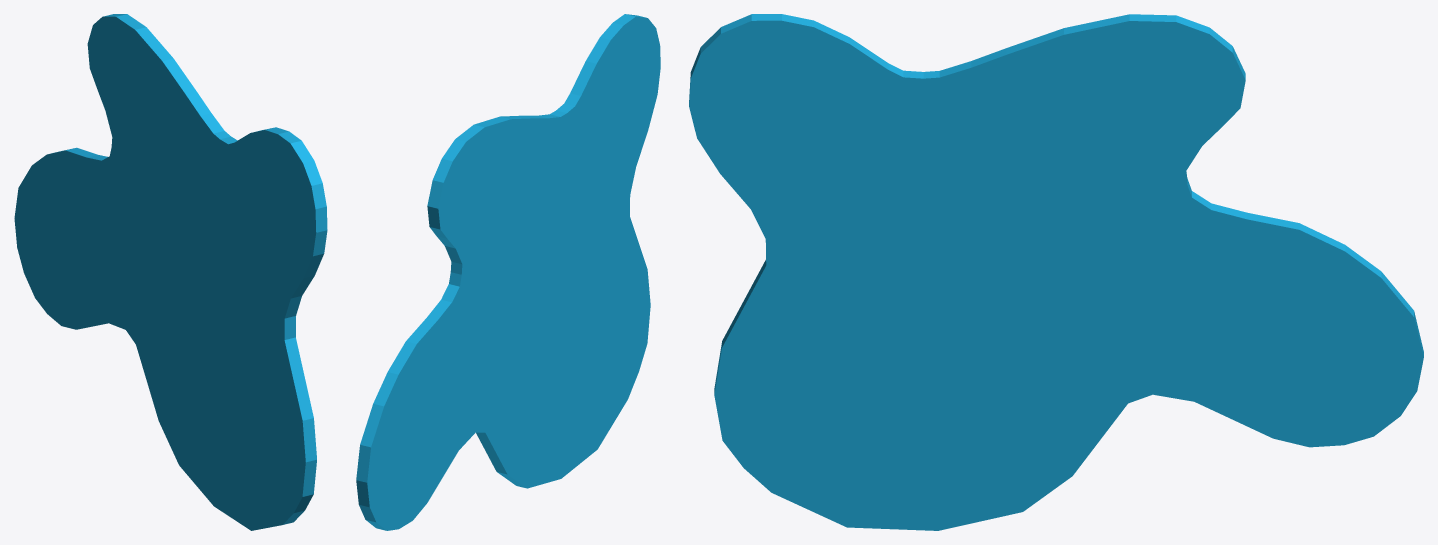
The model's file is Agua.fbx.
The picture shows the model from 3 angles, left to right: view 1: azimuth 30°, elevation 25°; view 2: azimuth 150°, elevation 25°; view 3: azimuth 270°, elevation 25°; orthographic projection. The views are drawn at different scales.
Parts seen in each view (by area): view 1: Cube; view 2: Cube; view 3: Cube.
Boxes of the visible parts, left/top/right/bottom form: Cube: left=14, top=14, right=327, bottom=530; Cube: left=356, top=14, right=660, bottom=530; Cube: left=689, top=14, right=1423, bottom=530.
Bounding box in the file's own units: 0.0733 × 2.59 × 3.38.
